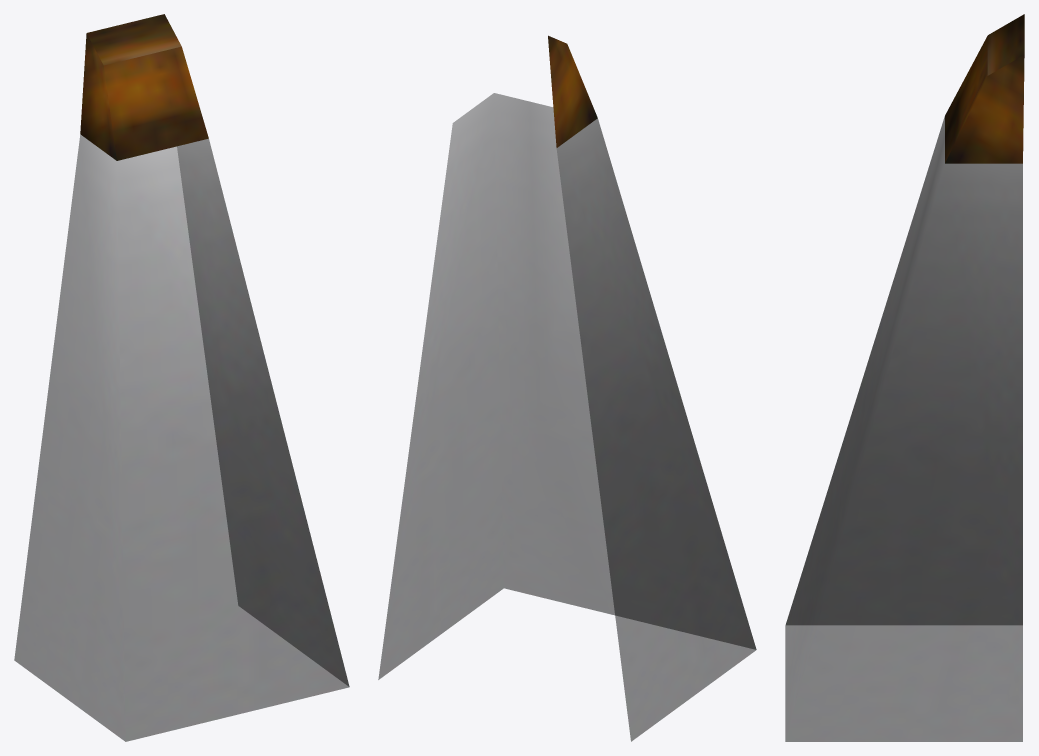
The model's file is prop-067.glb.
The picture shows the model from 3 angles, left to right: view 1: azimuth 30°, elevation 25°; view 2: azimuth 150°, elevation 25°; view 3: azimuth 270°, elevation 25°; orthographic projection. The views are drawn at different scales.
Parts seen in each view (by area): view 1: root; view 2: root; view 3: root.
Part boxes in pixels (bbox=[...]): root: bbox=[14, 14, 349, 741]; root: bbox=[378, 35, 756, 741]; root: bbox=[785, 14, 1024, 741].
Bounding box in the file's own units: 0.6895 × 1.79 × 0.5977.
Materials: 2 (2 with a texture image).
